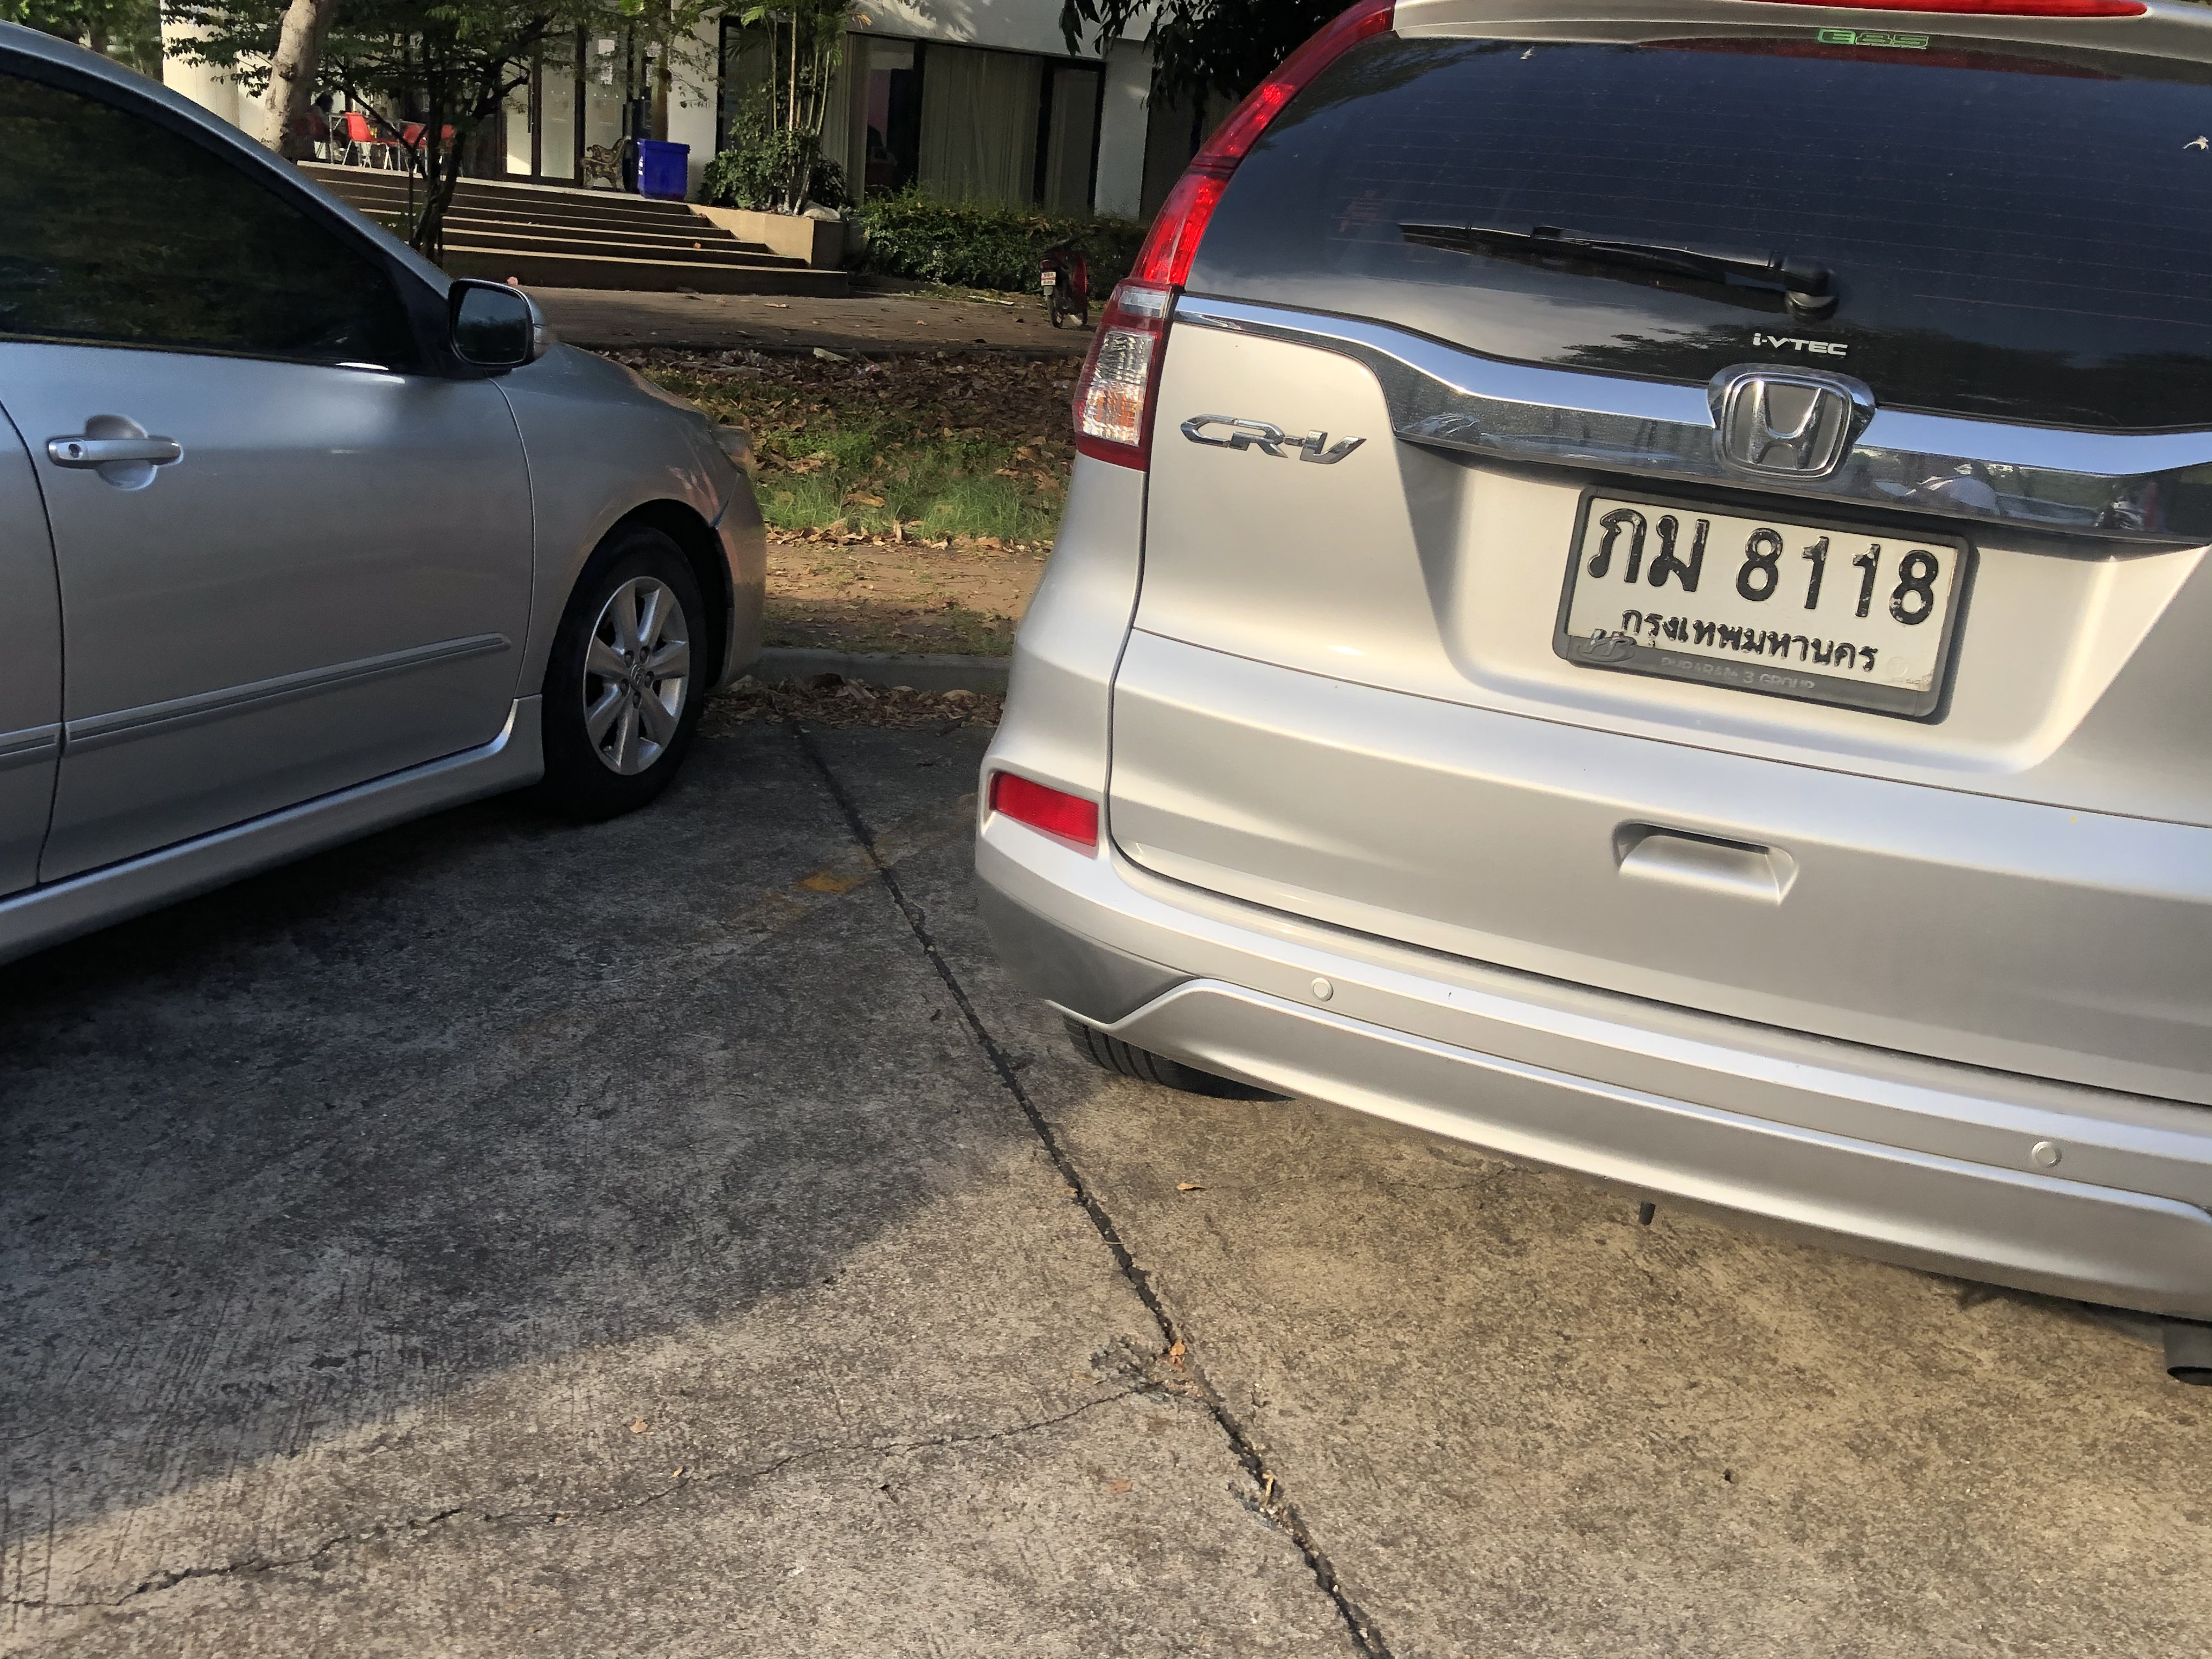in: (1566, 498, 1956, 699)
out: (1550, 479, 1980, 730)
